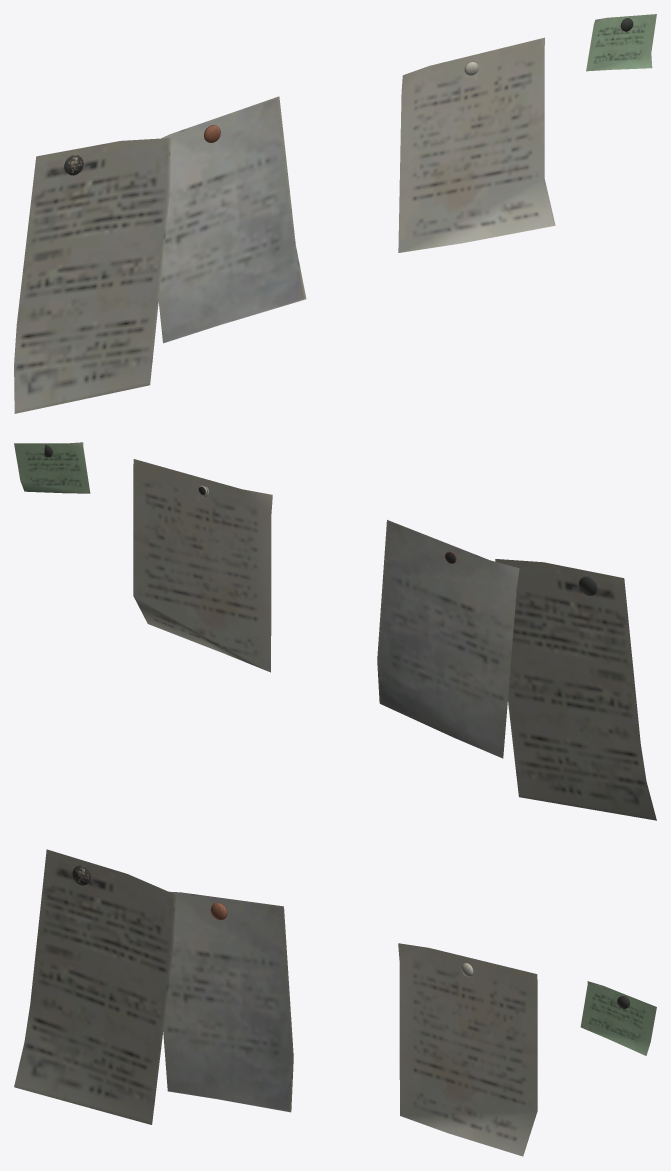
File: 094_papermagnet03a.fbx
The picture shows the model from 3 angles, top to bottom: view 1: azimuth 30°, elevation 25°; view 2: azimuth 150°, elevation 25°; view 3: azimuth 330°, elevation 25°; orthographic projection. The views are drawn at different scales.
Visible parts, largest first — view 1: LOD_1_Group_0_Sub_1__sm36_012_PaperMagnet01A_A_Mat, LOD_1_Group_1_Sub_1__sm36_012_PaperMagnet01A_A_Mat; view 2: LOD_1_Group_0_Sub_1__sm36_012_PaperMagnet01A_A_Mat, LOD_1_Group_1_Sub_1__sm36_012_PaperMagnet01A_A_Mat; view 3: LOD_1_Group_0_Sub_1__sm36_012_PaperMagnet01A_A_Mat, LOD_1_Group_1_Sub_1__sm36_012_PaperMagnet01A_A_Mat.
Part boxes in pixels (x1,y1,x2,y2): LOD_1_Group_0_Sub_1__sm36_012_PaperMagnet01A_A_Mat: [14, 37, 555, 413]; LOD_1_Group_1_Sub_1__sm36_012_PaperMagnet01A_A_Mat: [586, 14, 656, 71]; LOD_1_Group_0_Sub_1__sm36_012_PaperMagnet01A_A_Mat: [133, 459, 656, 820]; LOD_1_Group_1_Sub_1__sm36_012_PaperMagnet01A_A_Mat: [14, 442, 90, 493]; LOD_1_Group_0_Sub_1__sm36_012_PaperMagnet01A_A_Mat: [14, 849, 537, 1156]; LOD_1_Group_1_Sub_1__sm36_012_PaperMagnet01A_A_Mat: [580, 981, 656, 1055].
Size of the model in its own units: 1.02 by 0.3848 by 0.049.
